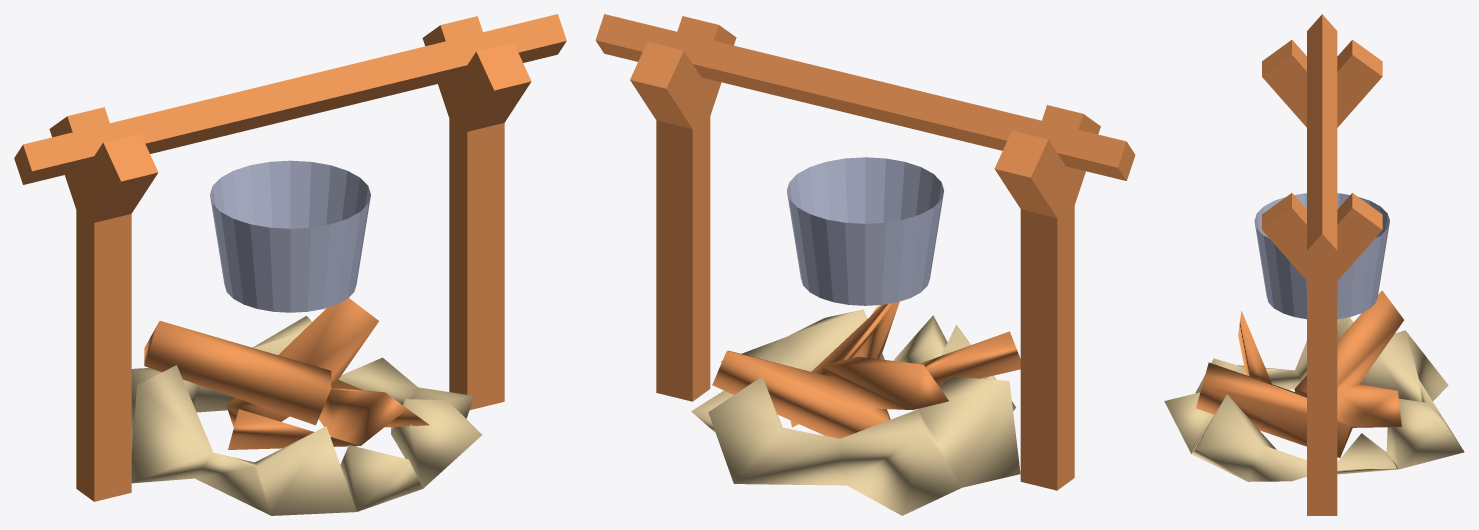
Rendered from campfire.fbx.
The picture shows the model from 3 angles, left to right: view 1: azimuth 30°, elevation 25°; view 2: azimuth 150°, elevation 25°; view 3: azimuth 270°, elevation 25°; orthographic projection. The views are drawn at different scales.
Visible parts, largest first — view 1: campfire, rocks, wood, bucket; view 2: campfire, rocks, bucket, wood; view 3: campfire, rocks, wood, bucket.
Boxes of the visible parts, box(x1,y1,x2,y2) form: campfire: box(14, 14, 566, 501); rocks: box(131, 316, 482, 515); wood: box(144, 298, 429, 449); bucket: box(210, 160, 370, 312); campfire: box(595, 14, 1135, 490); rocks: box(691, 309, 1020, 515); bucket: box(786, 157, 944, 305); wood: box(712, 301, 1020, 438); campfire: box(1262, 14, 1382, 515); rocks: box(1164, 317, 1464, 481); wood: box(1196, 290, 1403, 457); bucket: box(1254, 193, 1389, 319).
Size of the model in its own units: 4.3 by 2.81 by 2.49.
